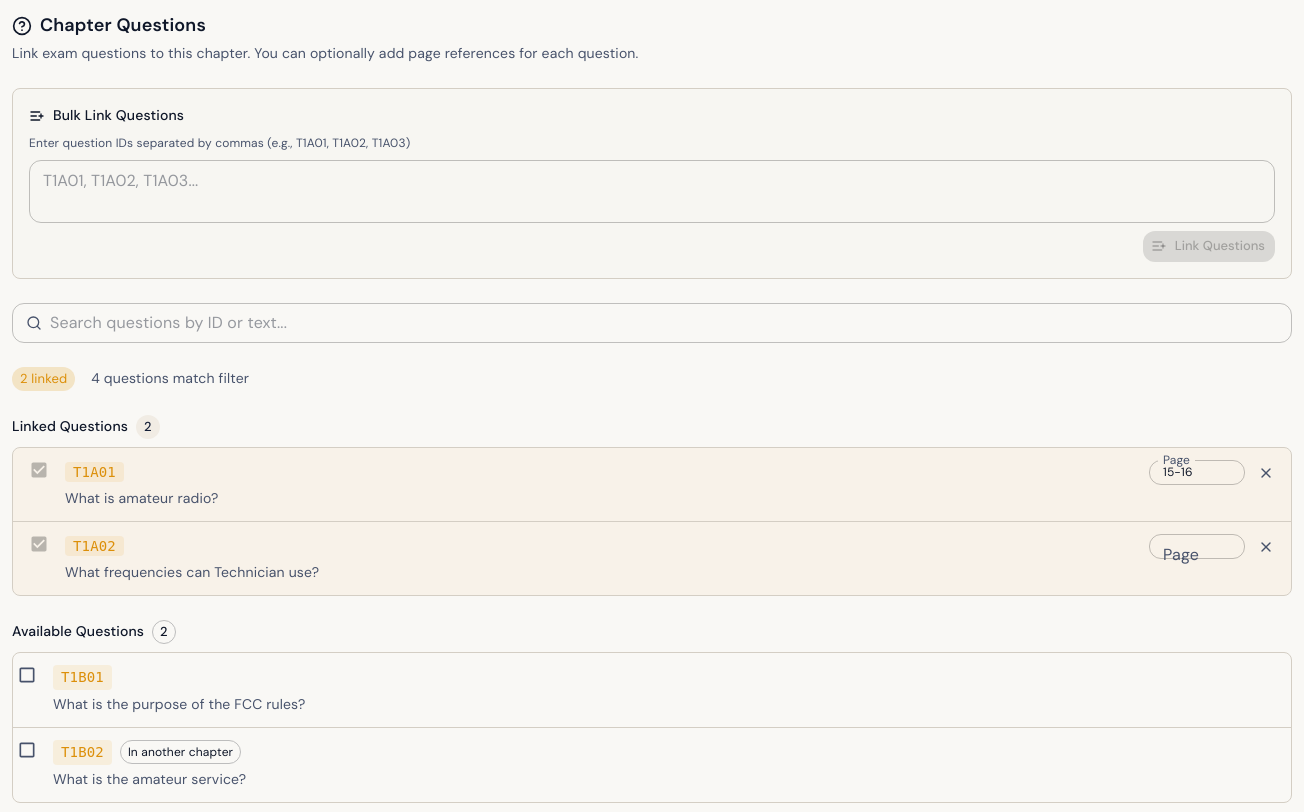
Test: ChapterQuestionManager › Search Functionality › should filter questions by display name
This screenshot has width=1304, height=812.
Expected: the text "T1A01" is shown, [65,462,124,482]
In the search field with placeholder "Search questions by ID or text...": {"x": 671, "y": 323} [50,303,1292,343], type "T1A01"
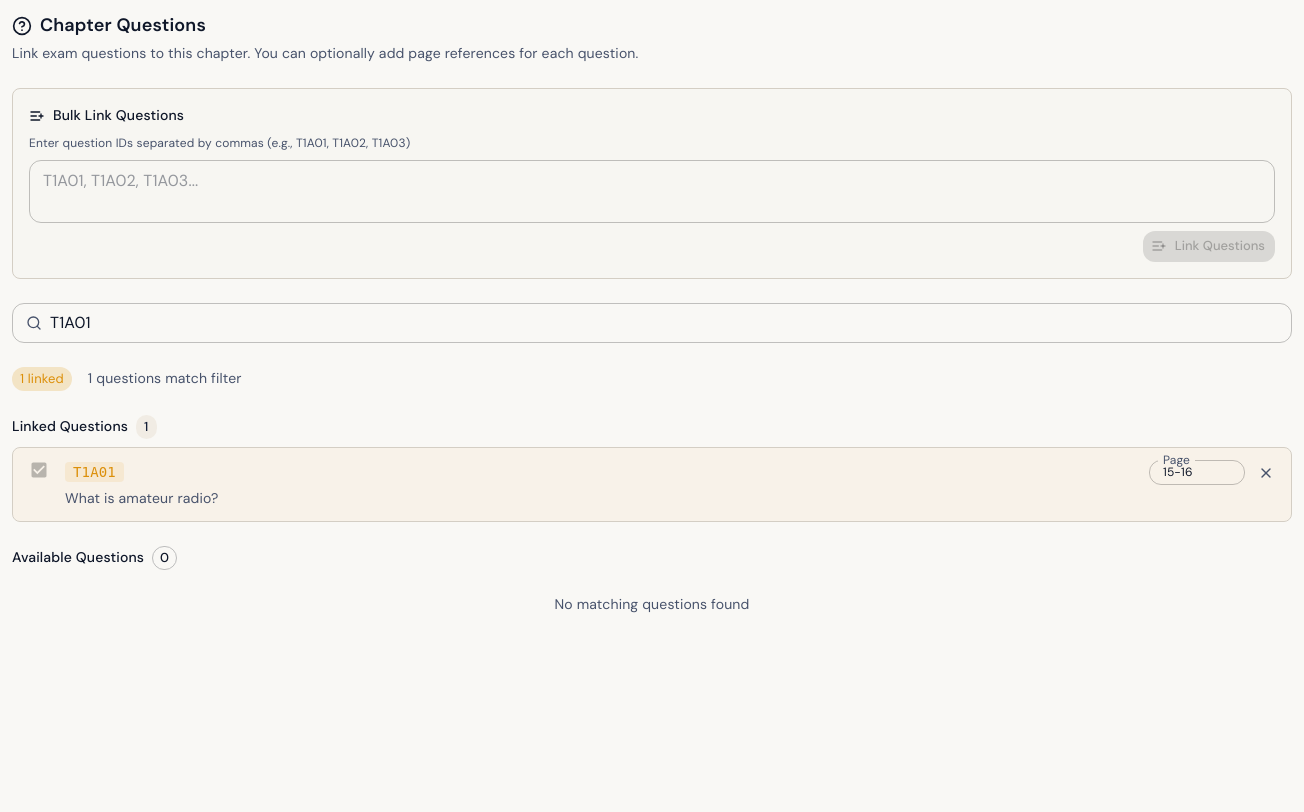
Expected: the text "T1A01" is shown, [65,462,124,482]
Result: the button "T1B01" is gone
